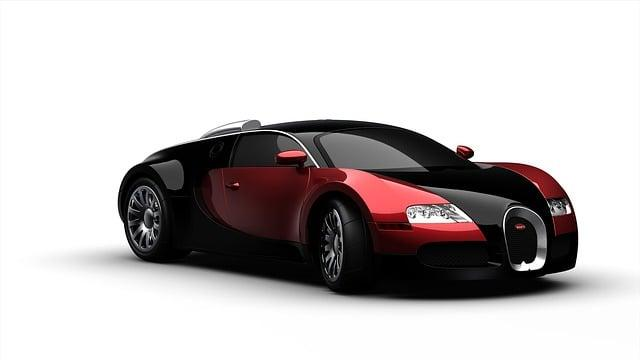Non_Gorille: (47, 16, 640, 355)
